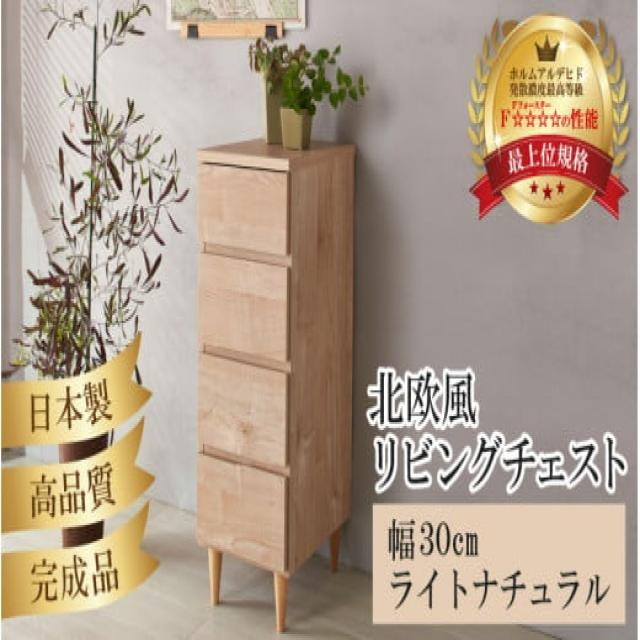natural shelf: (200, 129, 352, 640)
